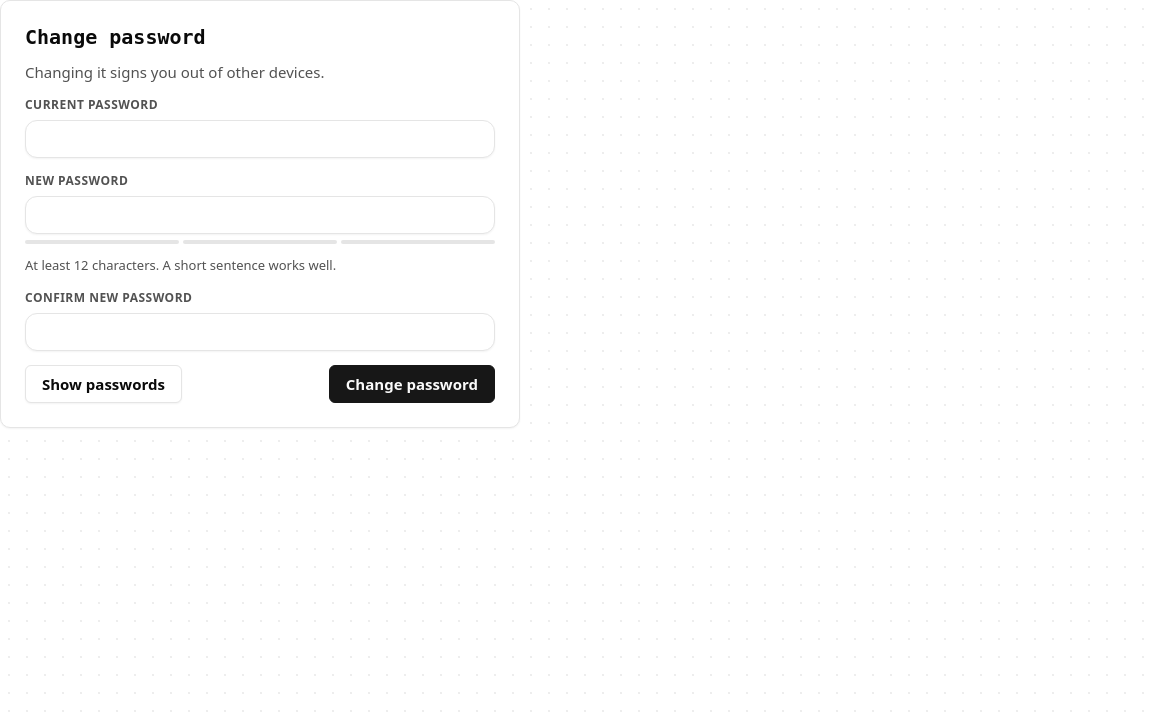
Test case: ChangePasswordComponent › shows the service wording when the current password is wrong
Type "wrong-password-here" into the password field labelled "Current password" at (260, 138), box x1=25 y1=120 x2=495 y2=158
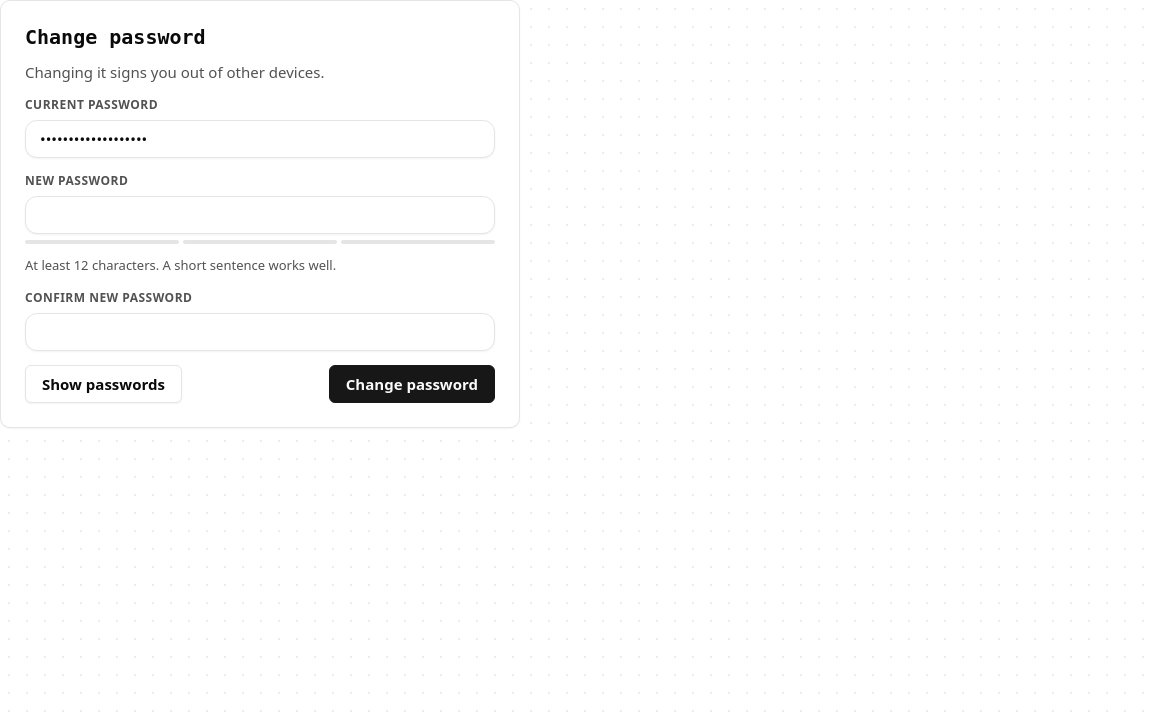
Type "A-brand-new-password" into the password field with test id "cp-new" at (260, 214), box x1=25 y1=196 x2=495 y2=234
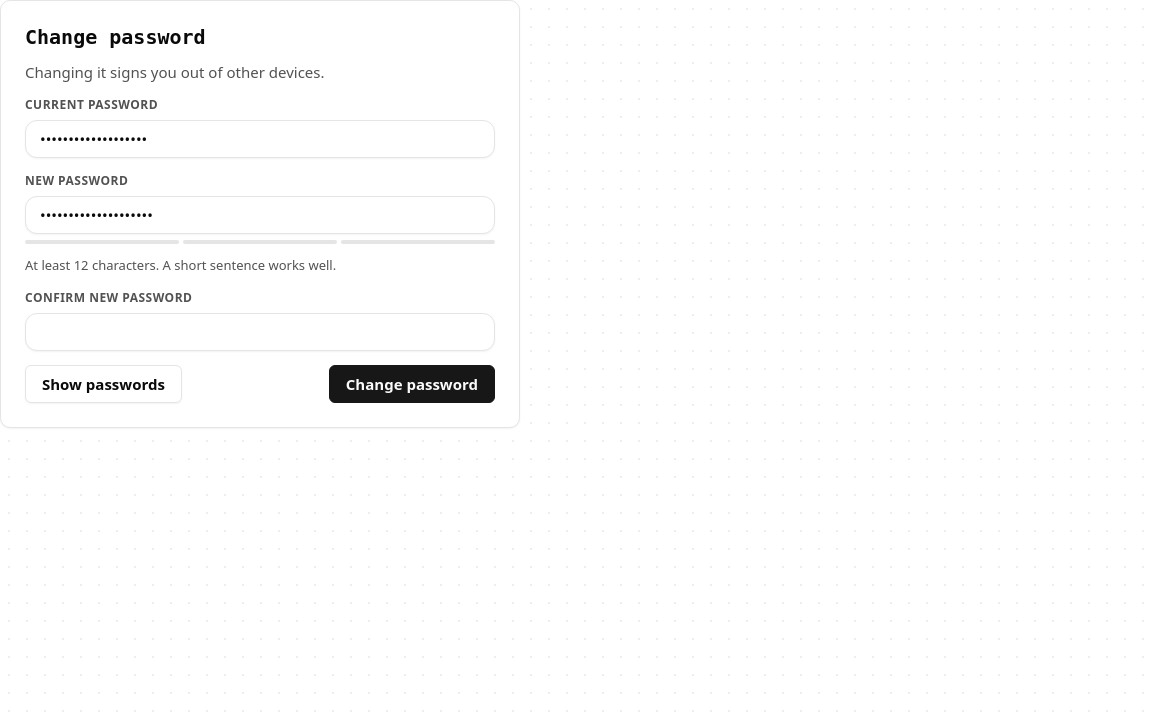
Type "A-brand-new-password" into the password field labelled "Confirm new password" at (260, 332), box x1=25 y1=313 x2=495 y2=351
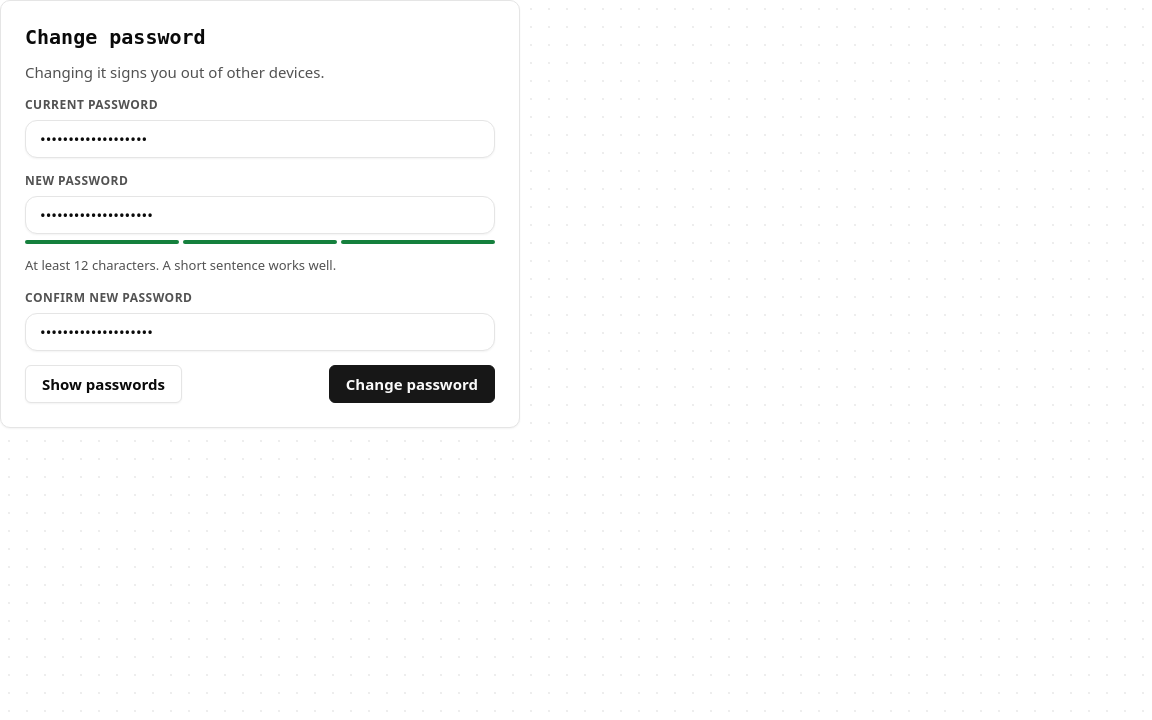
Click the button with test id "cp-submit" at (412, 384), box x1=329 y1=365 x2=495 y2=403
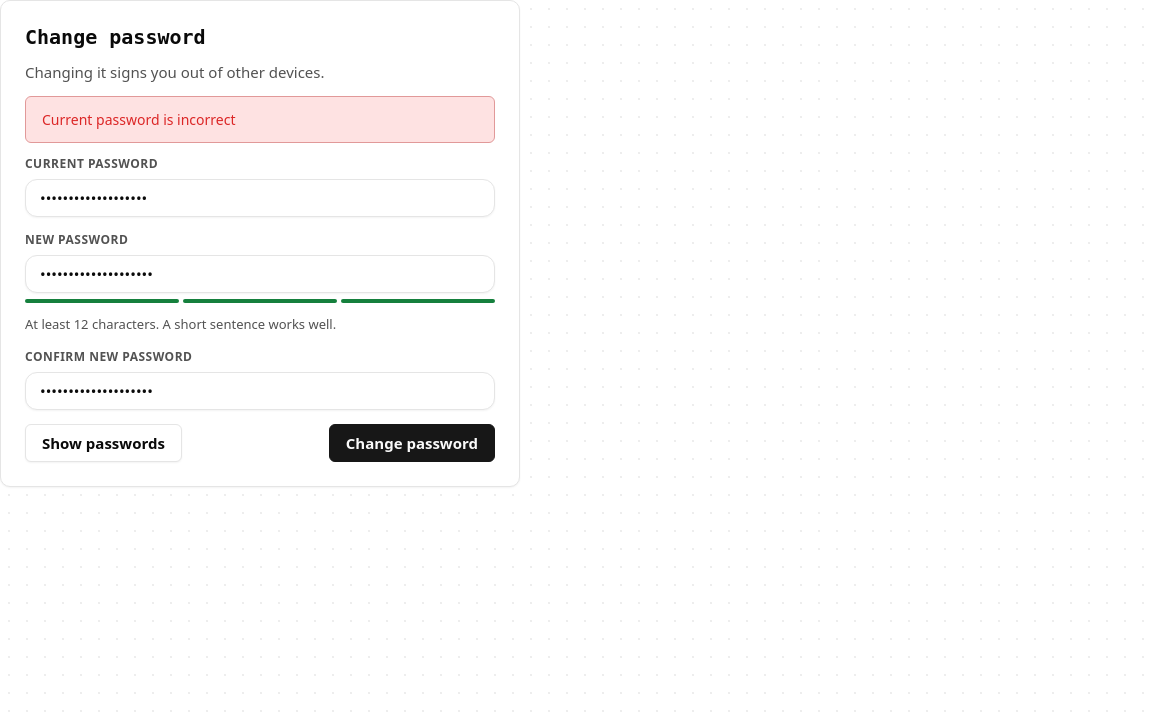
Now the message with test id "cp-error" reads "Current password is incorrect", box x1=42 y1=110 x2=236 y2=128
